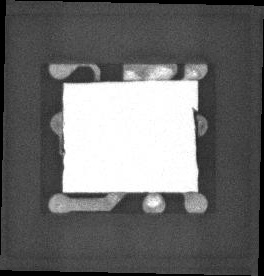DIE_BROKEN: (191, 106, 198, 173)
